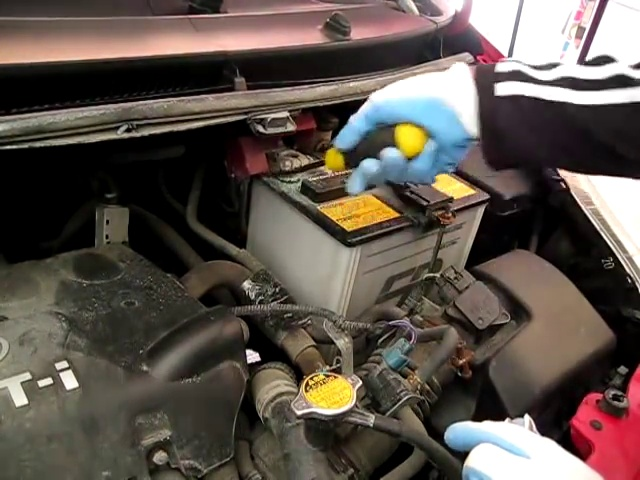battery: (246, 130, 497, 236)
